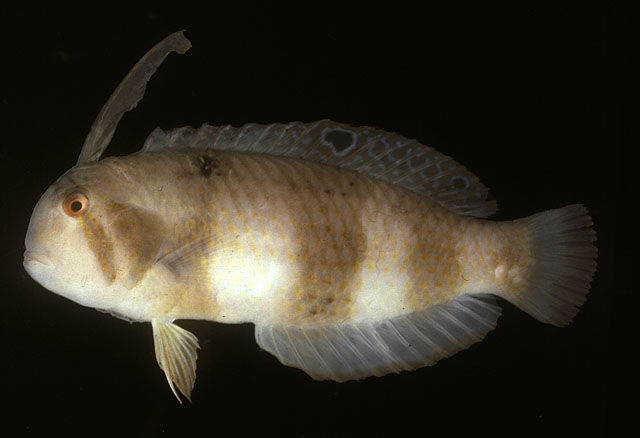fish: (22, 30, 598, 404)
